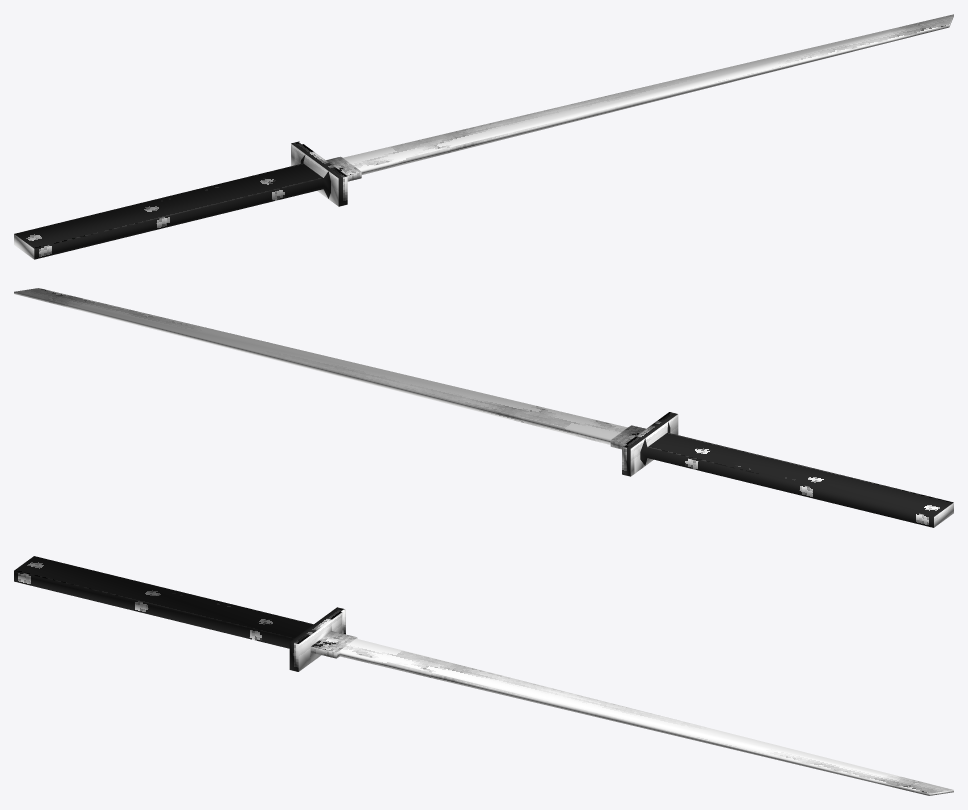
File: unbreakable_katana.glb
3 views of the same model, one above another, from view 1: azimuth 30°, elevation 25°; view 2: azimuth 150°, elevation 25°; view 3: azimuth 330°, elevation 25° (orthographic).
Visible parts, largest first — view 1: Cube; view 2: Cube; view 3: Cube.
Part boxes in pixels (x1,y1,x2,y2): Cube: (14, 14, 953, 259); Cube: (14, 288, 953, 527); Cube: (14, 556, 953, 795).
Bounding box in the file's own units: 5 × 0.1444 × 0.4439.
1 material, 1 textured.
